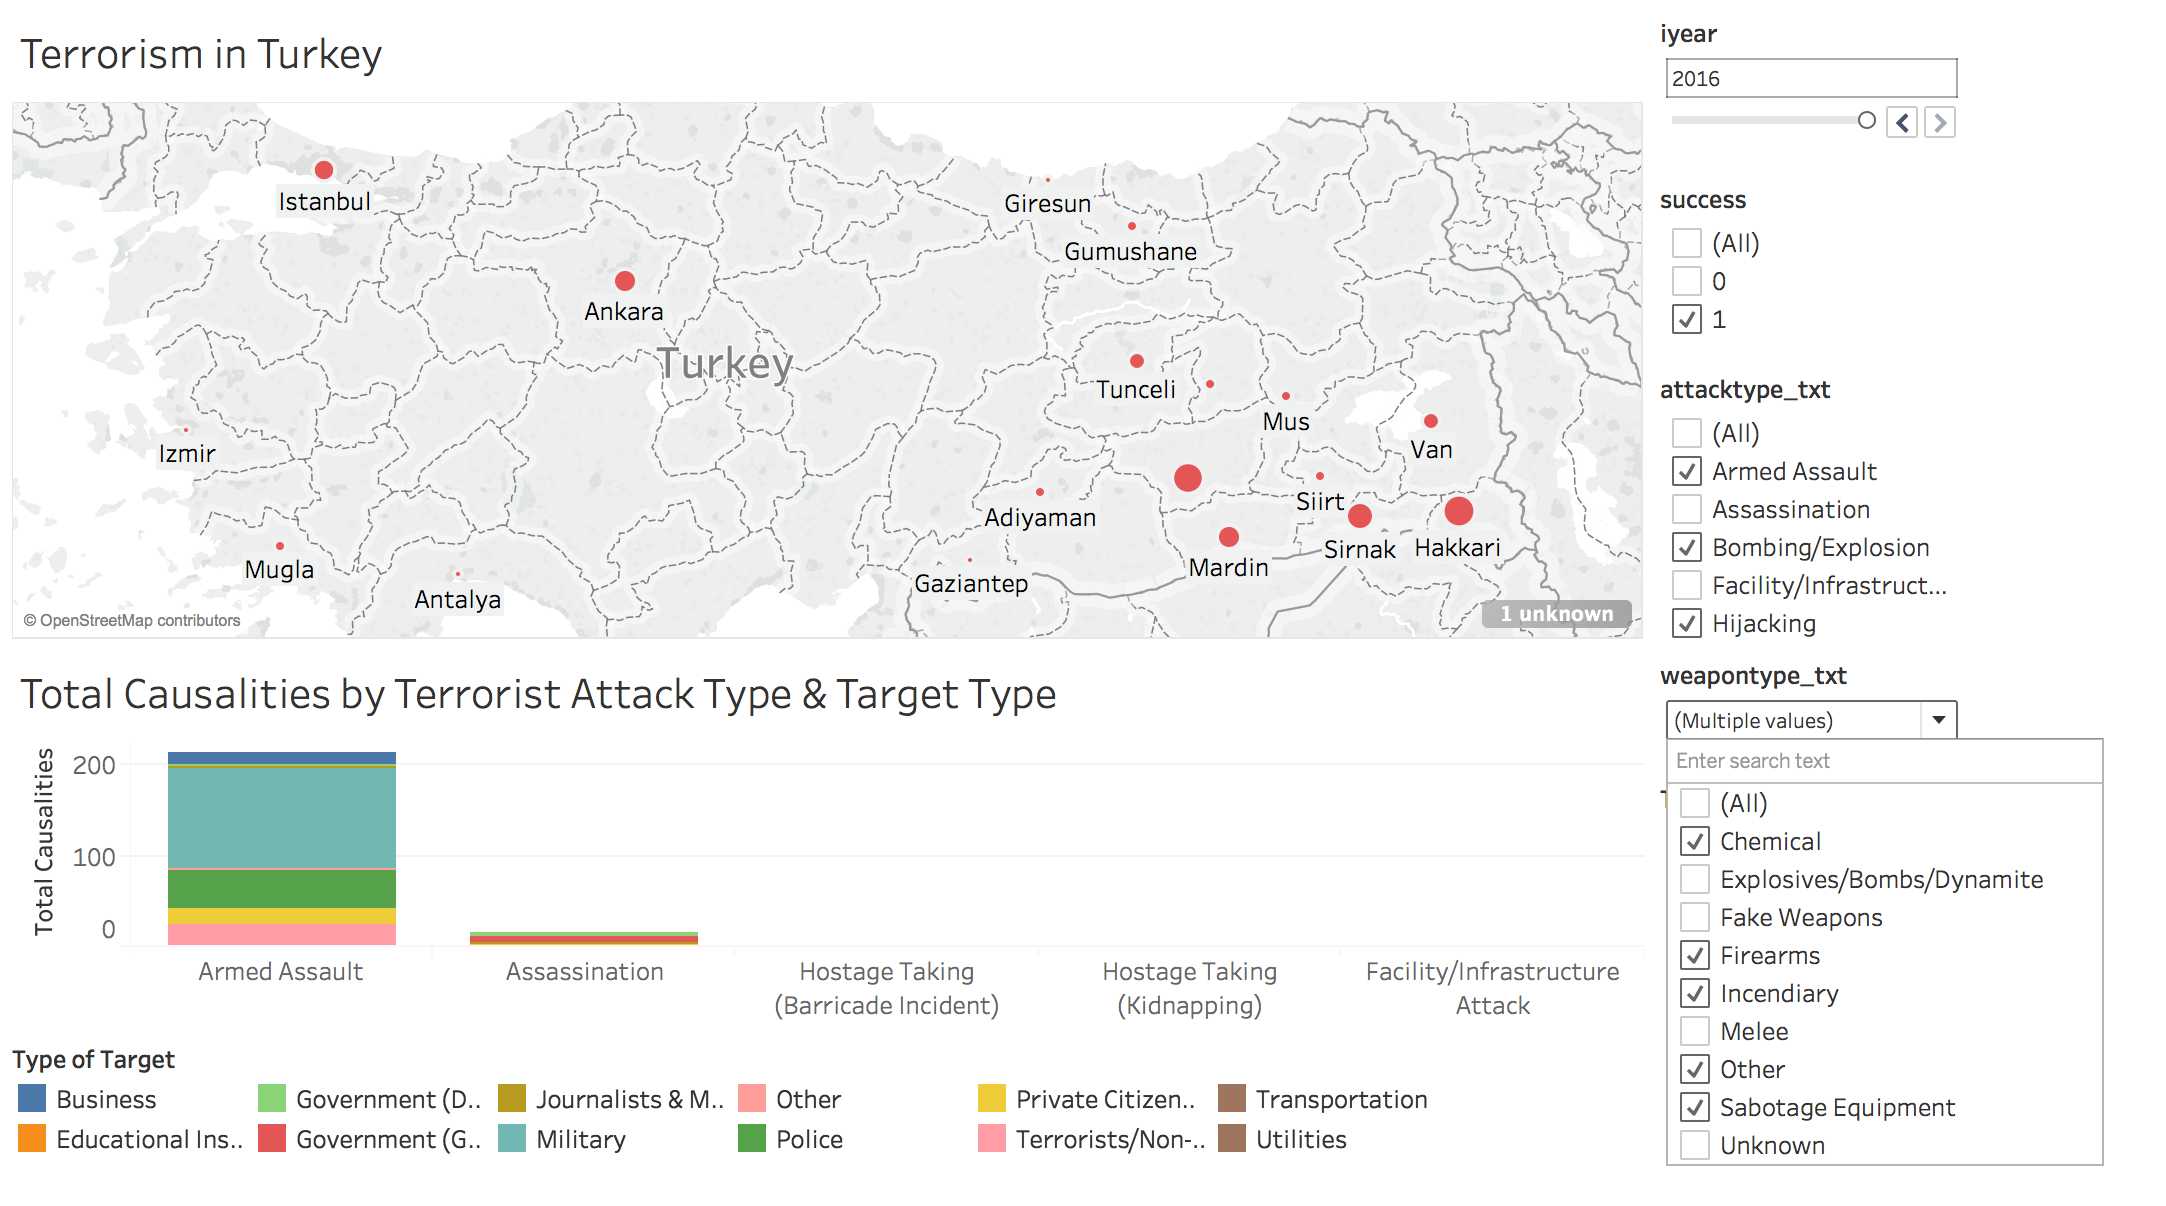

The page's visual inventory and layout, read from the dashboard file:
{"tool":"tableau","page":{"name":"Dashboard 1","canvas":[1000,800],"ordinal":0},"visuals":[{"type":"worksheet","title":"Sheet 1","mark":"Automatic","rows":["latitude"],"cols":["longitude"],"box":[8,8,824,784]},{"type":"filter","title":"Sheet 1","param":"[federated.0r33ruc1mmh9n51cb5izi0kvz6ea].[none:iyear:ok]","box":[832,8,160,75]},{"type":"filter","title":"Sheet 1","param":"[federated.0r33ruc1mmh9n51cb5izi0kvz6ea].[none:success:ok]","box":[832,83,160,89]},{"type":"filter","title":"Sheet 1","param":"[federated.0r33ruc1mmh9n51cb5izi0kvz6ea].[none:attacktype_txt:nk]","box":[832,172,160,52]},{"type":"legend","title":"Sheet 1","param":"[federated.0r33ruc1mmh9n51cb5izi0kvz6ea].[none:attacktype_txt:nk]","box":[832,224,160,126]},{"type":"legend","title":"Sheet 1","param":"[federated.0r33ruc1mmh9n51cb5izi0kvz6ea].[sum:Calculation_5759541039107858432:qk","box":[832,350,160,166]}]}

Visuals, with their boxes on the page's 1000x800 design canvas (x1, y1, x2, y2). These are canvas units, not pixel positions in the 2166x1206 screenshot, which may show the page scaled, cropped or inside an application window:
"Sheet 1" worksheet: {"left": 8, "top": 8, "right": 832, "bottom": 792}
"Sheet 1" filter: {"left": 832, "top": 8, "right": 992, "bottom": 83}
"Sheet 1" filter: {"left": 832, "top": 83, "right": 992, "bottom": 172}
"Sheet 1" filter: {"left": 832, "top": 172, "right": 992, "bottom": 224}
"Sheet 1" legend: {"left": 832, "top": 224, "right": 992, "bottom": 350}
"Sheet 1" legend: {"left": 832, "top": 350, "right": 992, "bottom": 516}
